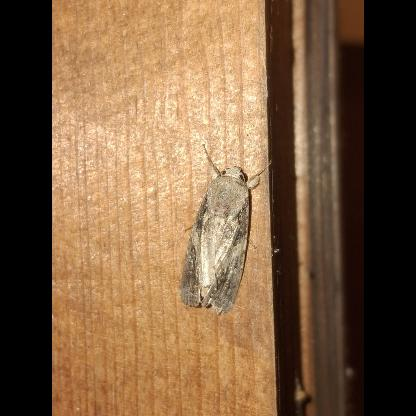Fall Armyworm Moth: (178, 142, 274, 318)
